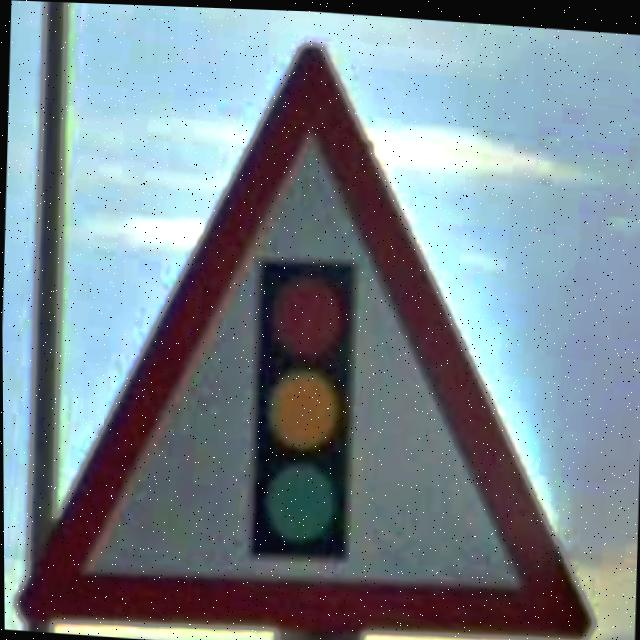signalahead: (16, 43, 592, 637)
